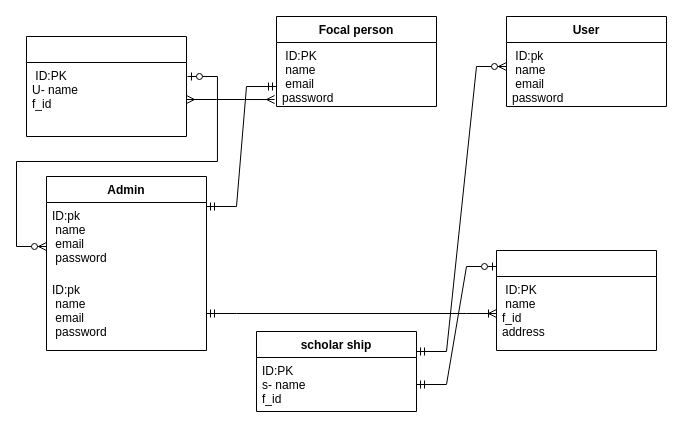
Some shapes in this 683 by 428 pixel diagram are drawn without their labels. Here are the shapes that lost their labels. From the top down, the box of each, then its label:
(26, 36, 186, 136): admission
(496, 250, 656, 350): University
